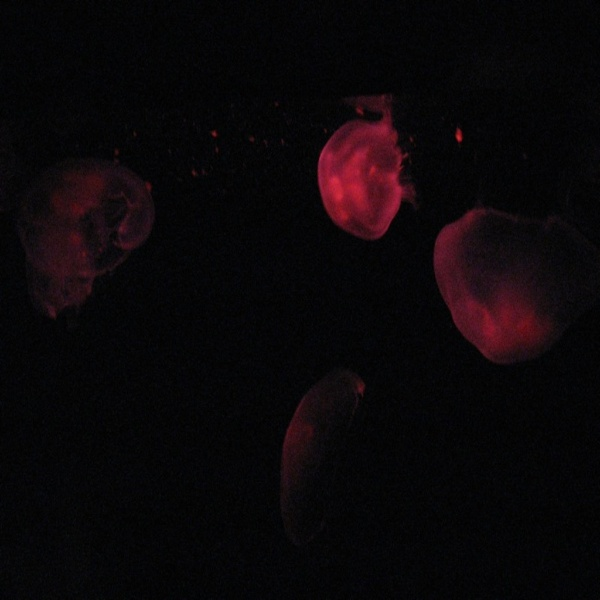Jellyfish: (23, 165, 158, 320), (431, 209, 558, 368), (312, 93, 415, 238)
